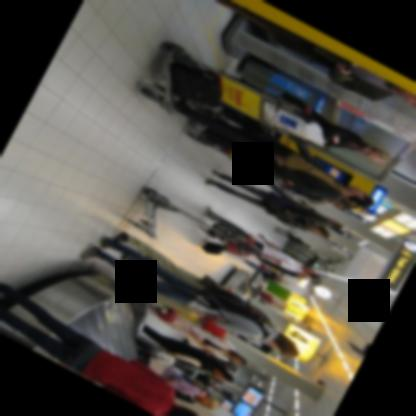backpack: (178, 287, 272, 328), (175, 95, 223, 120)
suitcase: (170, 62, 219, 109), (199, 240, 223, 254)
